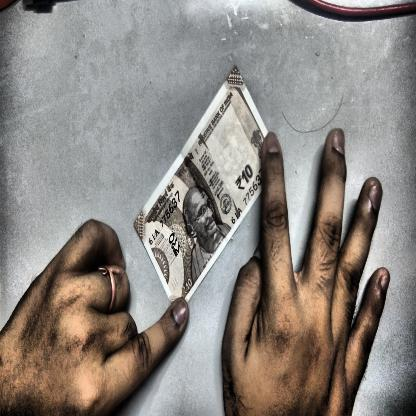Rs10: (232, 159, 256, 197)
